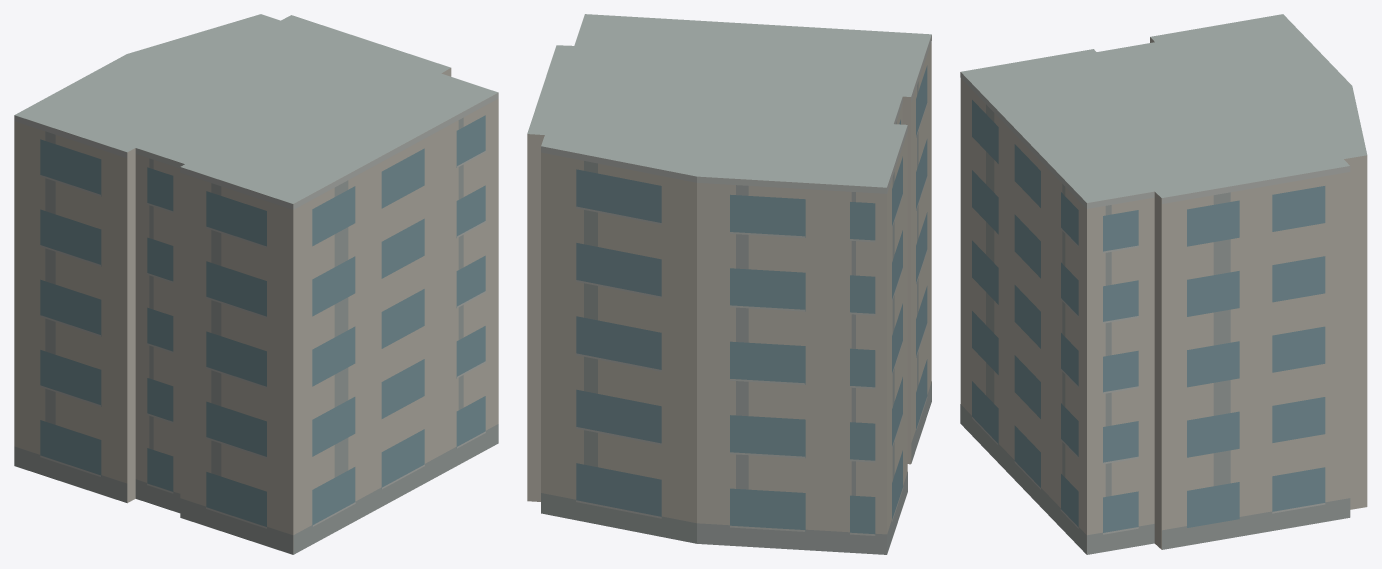
The model's file is survey-upis-33009649.glb.
3 views of the same model, side by side, from view 1: azimuth 30°, elevation 25°; view 2: azimuth 150°, elevation 25°; view 3: azimuth 270°, elevation 25° (orthographic). The views are drawn at different scales.
Visible parts, largest first — view 1: survey-upis-33009649.tmp; view 2: survey-upis-33009649.tmp; view 3: survey-upis-33009649.tmp.
Boxes of the visible parts, x1,y1,x2,y2 form: survey-upis-33009649.tmp: (14,14,498,554); survey-upis-33009649.tmp: (527,14,931,554); survey-upis-33009649.tmp: (960,14,1367,554).
Size of the model in its own units: 16.55 by 14.35 by 15.05.
